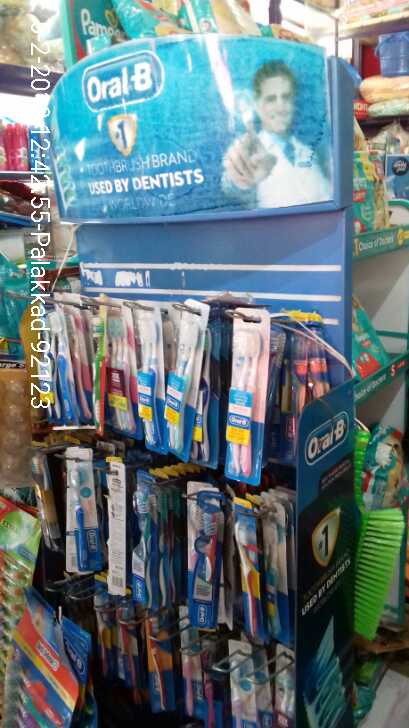oralb: (222, 305, 260, 467), (179, 489, 221, 634), (62, 446, 107, 575), (121, 467, 158, 605), (122, 305, 166, 420), (158, 311, 199, 427), (82, 307, 115, 428), (233, 505, 259, 638)
